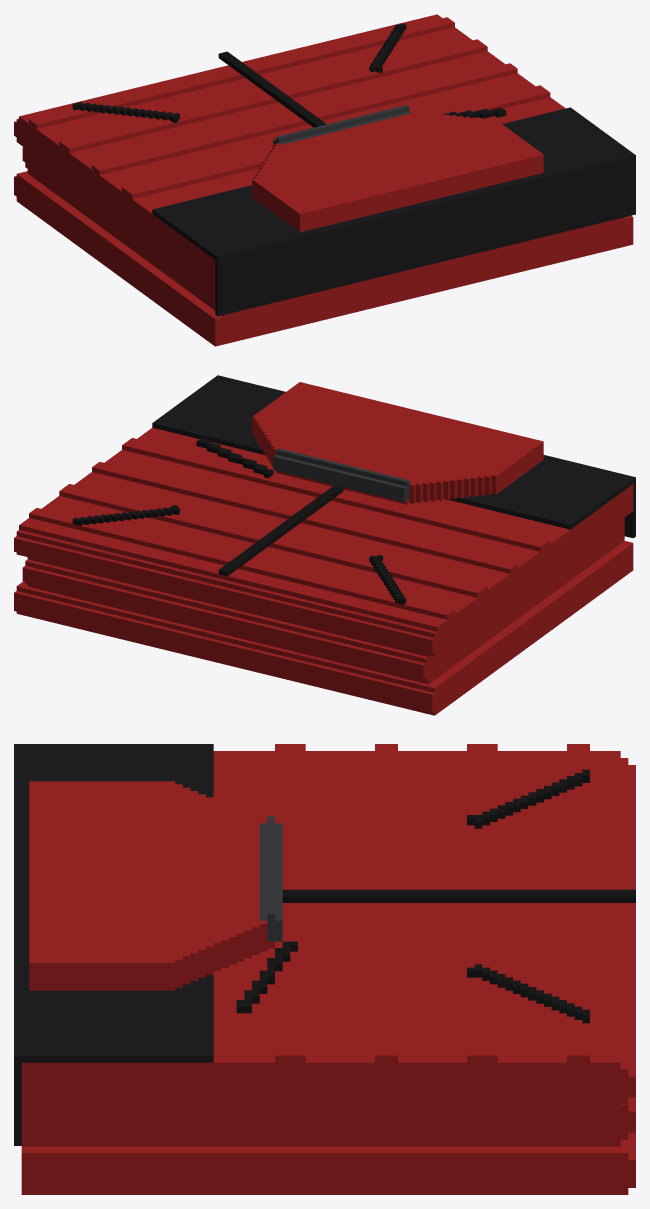
The model's file is ski_jacket.glb.
The picture shows the model from 3 angles, top to bottom: view 1: azimuth 30°, elevation 25°; view 2: azimuth 150°, elevation 25°; view 3: azimuth 270°, elevation 25°; orthographic projection. The views are drawn at different scales.
Visible parts, largest first — view 1: ski_jacket:compound; view 2: ski_jacket:compound; view 3: ski_jacket:compound.
Boxes of the visible parts, x1=… form: ski_jacket:compound: x1=14, y1=14, x2=635, y2=346; ski_jacket:compound: x1=14, y1=375, x2=635, y2=715; ski_jacket:compound: x1=14, y1=744, x2=635, y2=1194.
Bounding box in the file's own units: 0.384 × 0.1 × 0.324.
